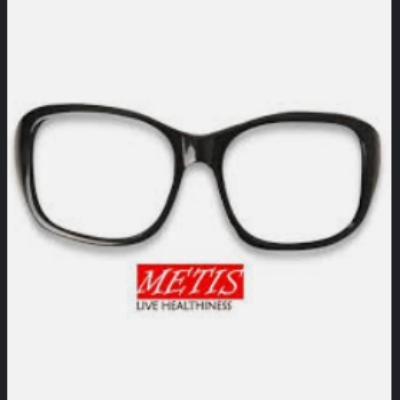glasses: (17, 98, 382, 260)
